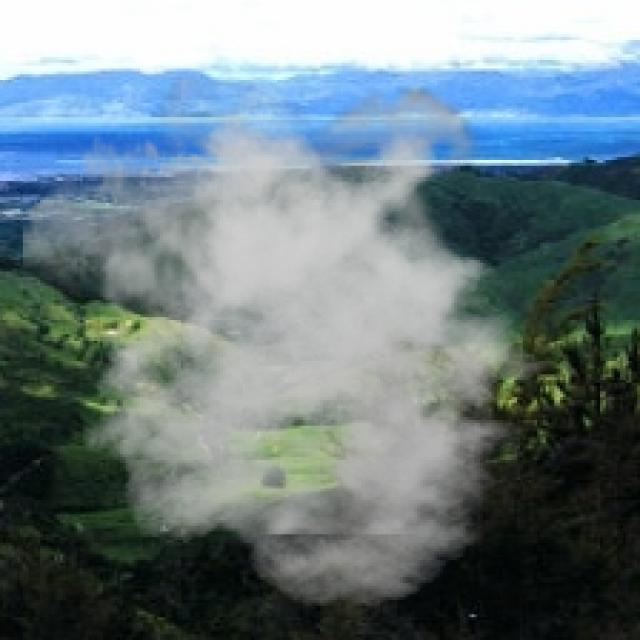smoke: (23, 77, 571, 609)
